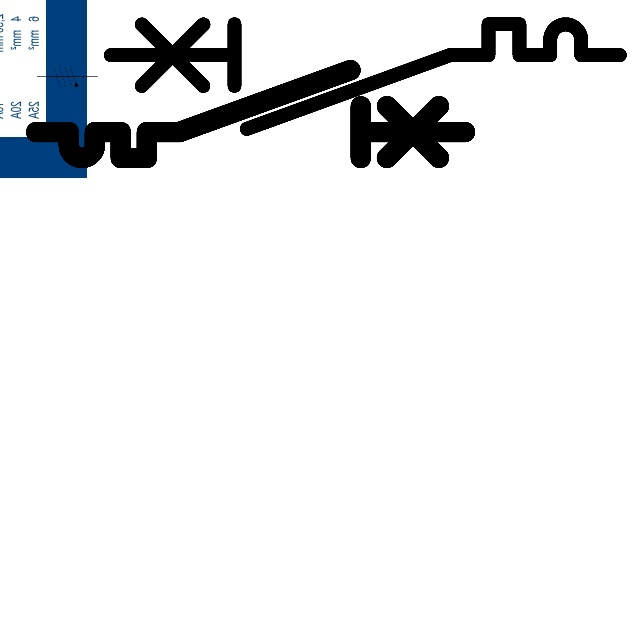interruptor_termomagnetico: (97, 11, 633, 142), (25, 59, 476, 169)
